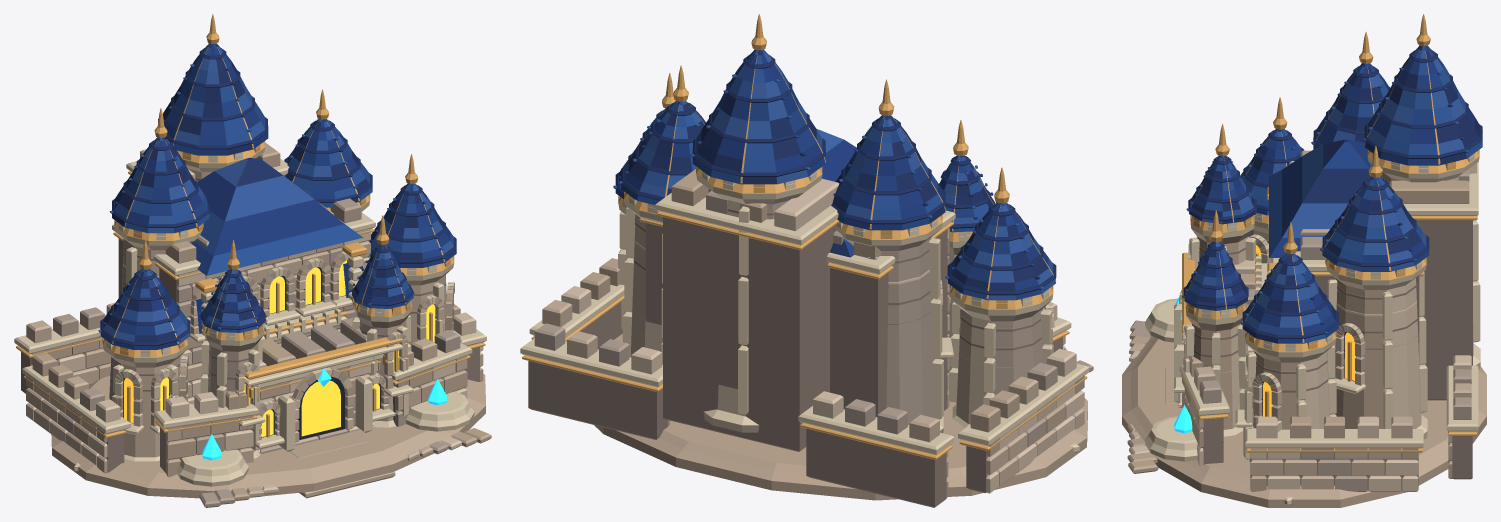
Rendered from citadel-low.glb.
3 views of the same model, side by side, from view 1: azimuth 30°, elevation 25°; view 2: azimuth 150°, elevation 25°; view 3: azimuth 270°, elevation 25° (orthographic). The views are drawn at different scales.
Visible parts, largest first — view 1: Ivory carving, Limestone 1, Cobalt glazed tiles 1, Limestone 4, Limestone 3, Cobalt glazed tiles 4, Brushed gold and bronze, Cobalt glazed tiles 3, Limestone 2, Cobalt glazed tiles 5, Cobalt glazed tiles 2, Amber glass (+3 smaller); view 2: Shadowed stone joints, Ivory carving, Limestone 1, Limestone 3, Cobalt glazed tiles 1, Limestone 2, Brushed gold and bronze, Cobalt glazed tiles 5, Cobalt glazed tiles 4, Cobalt glazed tiles 3, Cobalt glazed tiles 2, Limestone 4; view 3: Limestone 1, Ivory carving, Cobalt glazed tiles 1, Limestone 2, Shadowed stone joints, Cobalt glazed tiles 5, Brushed gold and bronze, Cobalt glazed tiles 3, Cobalt glazed tiles 4, Cobalt glazed tiles 2, Limestone 4, Limestone 3 (+1 smaller).
Part boxes in pixels (box(x1,y1,x2,y2)): Ivory carving: box(14, 141, 486, 486); Limestone 1: box(26, 142, 491, 500); Cobalt glazed tiles 1: box(100, 43, 456, 349); Limestone 4: box(26, 165, 483, 498); Limestone 3: box(53, 198, 460, 507); Cobalt glazed tiles 4: box(103, 44, 456, 349); Brushed gold and bronze: box(16, 14, 485, 438); Cobalt glazed tiles 3: box(100, 44, 453, 344); Limestone 2: box(26, 149, 483, 494); Cobalt glazed tiles 5: box(98, 46, 453, 344); Cobalt glazed tiles 2: box(100, 44, 446, 341); Amber glass: box(124, 260, 435, 436); Shadowed stone joints: box(528, 189, 1062, 507); Ivory carving: box(520, 171, 1089, 455); Limestone 1: box(580, 169, 1087, 500); Limestone 3: box(534, 191, 1093, 497); Cobalt glazed tiles 1: box(615, 50, 1056, 295); Limestone 2: box(561, 178, 1084, 493); Brushed gold and bronze: box(522, 14, 1087, 459); Cobalt glazed tiles 5: box(620, 50, 1052, 300); Cobalt glazed tiles 4: box(618, 49, 1055, 290); Cobalt glazed tiles 3: box(613, 50, 1055, 299); Cobalt glazed tiles 2: box(616, 53, 1048, 299); Limestone 4: box(542, 237, 1084, 486); Limestone 1: box(1122, 150, 1486, 507); Ivory carving: box(1145, 150, 1480, 505); Cobalt glazed tiles 1: box(1183, 46, 1482, 343); Limestone 2: box(1129, 172, 1480, 491); Shadowed stone joints: box(1194, 184, 1472, 490); Cobalt glazed tiles 5: box(1191, 45, 1465, 329); Brushed gold and bronze: box(1181, 14, 1482, 452); Cobalt glazed tiles 3: box(1184, 46, 1482, 343); Cobalt glazed tiles 4: box(1189, 46, 1474, 337); Cobalt glazed tiles 2: box(1182, 45, 1458, 343); Limestone 4: box(1127, 237, 1471, 489); Limestone 3: box(1127, 169, 1471, 491).
Bounding box in the file's own units: 6.17 × 5.45 × 4.5.
